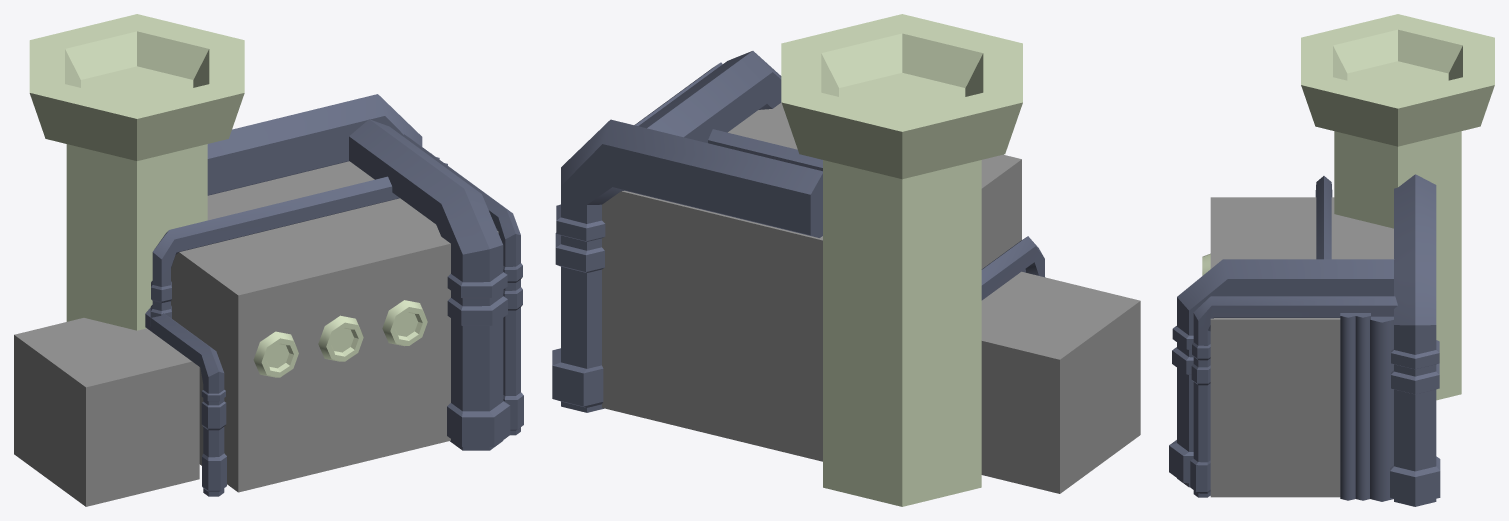
File: PL002_Biulding.FBX
3 views of the same model, side by side, from view 1: azimuth 30°, elevation 25°; view 2: azimuth 150°, elevation 25°; view 3: azimuth 270°, elevation 25° (orthographic). The views are drawn at different scales.
Parts seen in each view (by area): view 1: PL002_Biulding; view 2: PL002_Biulding; view 3: PL002_Biulding.
Boxes of the visible parts, x1=… form: PL002_Biulding: x1=14, y1=14, x2=523, y2=506; PL002_Biulding: x1=552, y1=14, x2=1140, y2=506; PL002_Biulding: x1=1169, y1=14, x2=1494, y2=506.
Size of the model in its own units: 258 by 200 by 186.
Materials: 1 (1 with a texture image).
